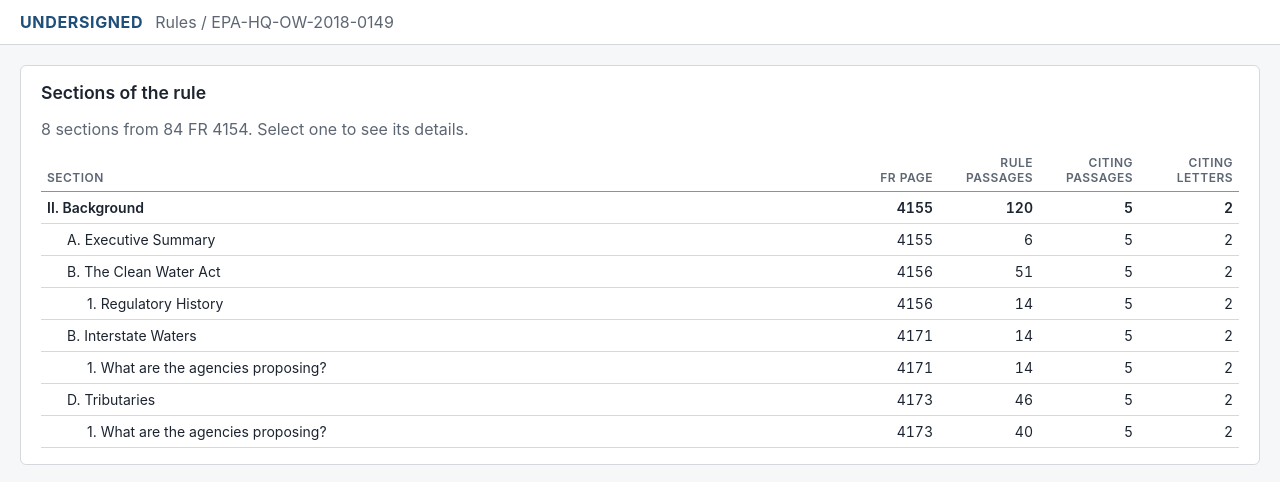
Test: says so when none of the linked passages are in the passage file
Expected: the table is shown, left=41, top=155, right=1239, bottom=448
Step 1. Click the button "D. Tributaries" → (111, 400), box left=67, top=391, right=155, bottom=408
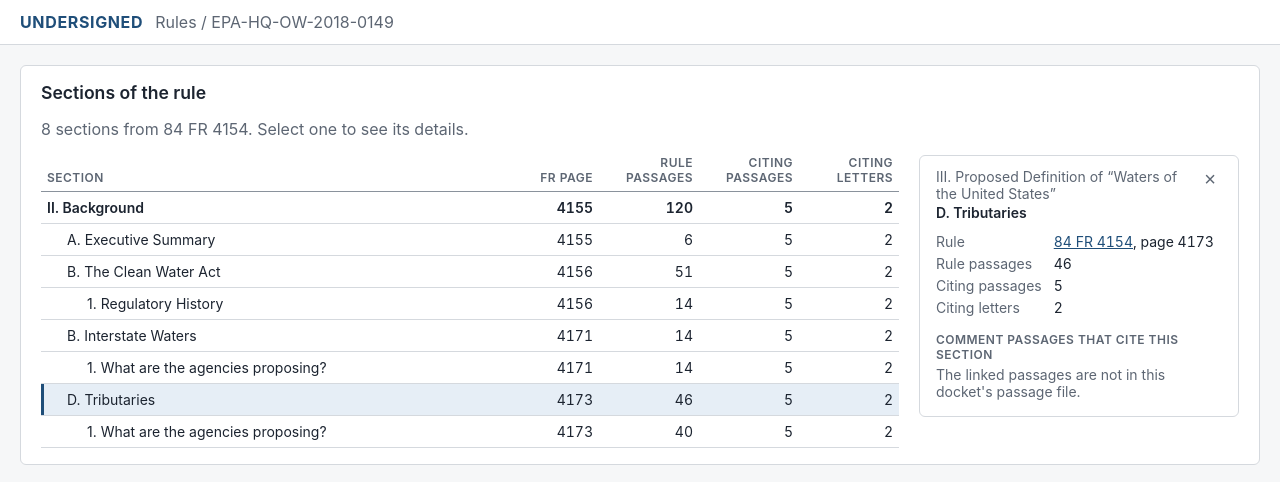
Result: the text "The linked passages are not in this docket's passage file." is shown at left=936, top=366, right=1165, bottom=400
